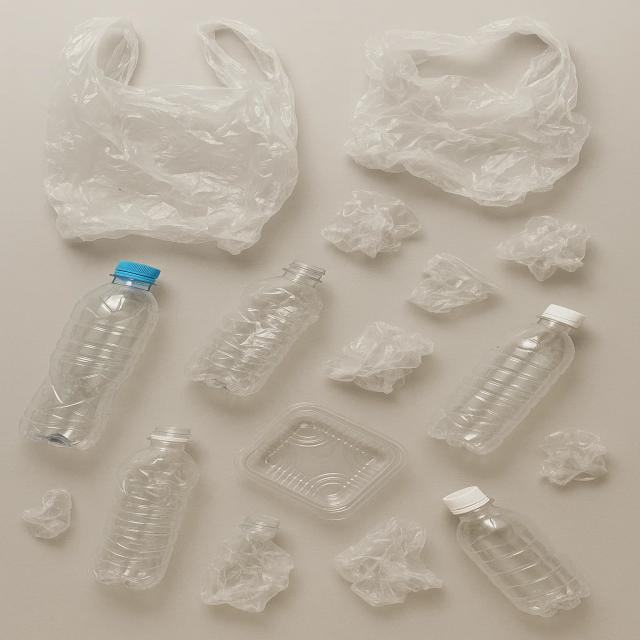plastic: (26, 260, 166, 454), (434, 306, 586, 456), (239, 399, 406, 518), (439, 487, 589, 618), (188, 260, 328, 400), (92, 426, 203, 594)
